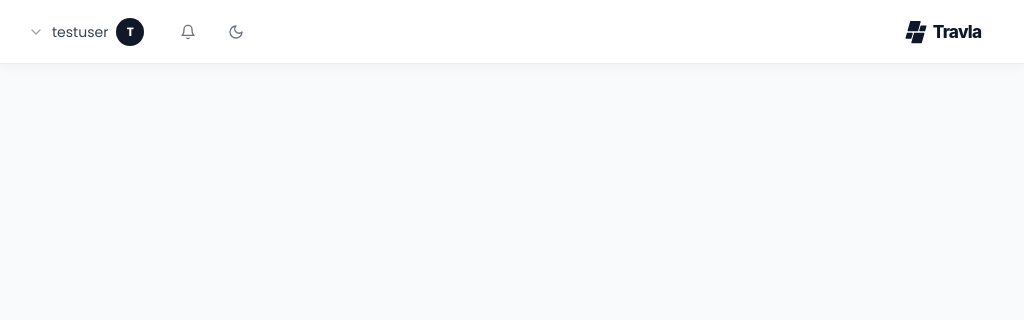
Test case: Navbar › FE-COMP-NAVBAR-032: user email shown in open user menu
Click the text "testuser". click: x=80, y=32
box: 52,22 -> 108,42
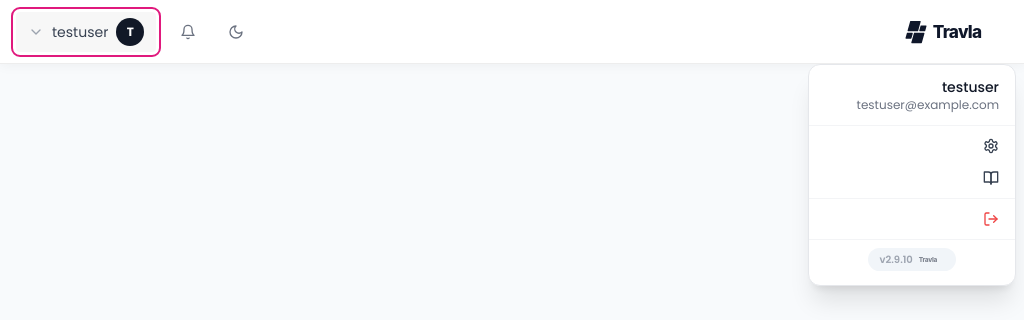
Check: the text "testuser@example.com" is shown, box 856,96 -> 999,113
